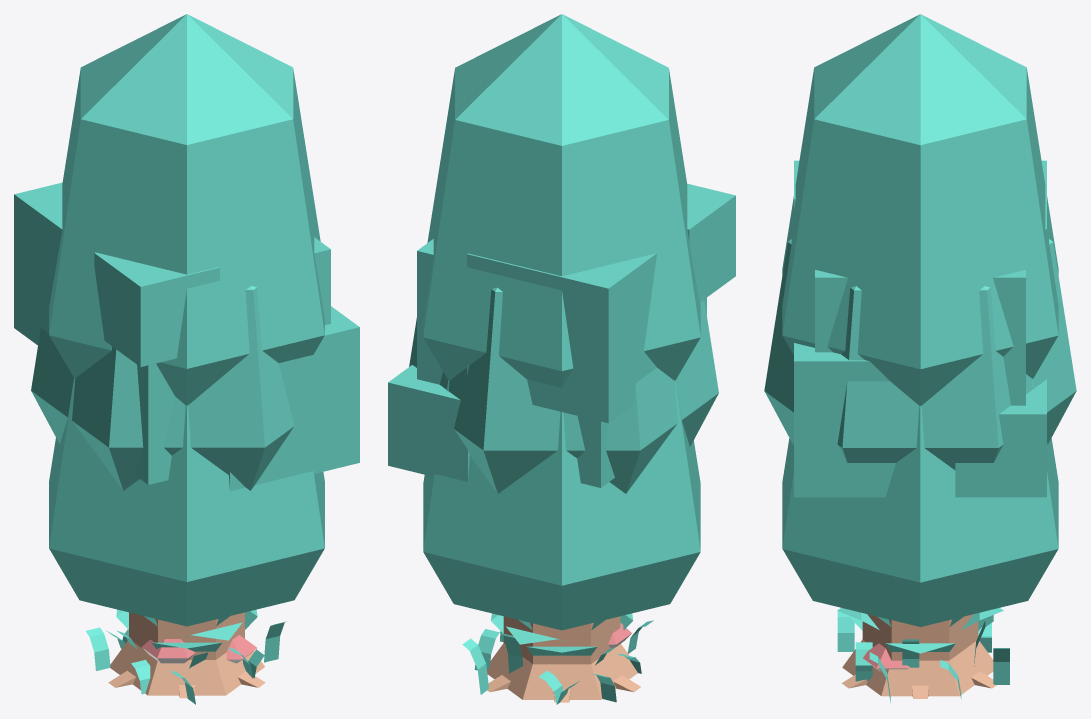
Rendered from nature.glb.
3 renders of one model, left to right at view 1: azimuth 30°, elevation 25°; view 2: azimuth 150°, elevation 25°; view 3: azimuth 270°, elevation 25°, orthographic.
Visible parts, largest first — view 1: tree_default, tree_fat, tree_blocks, tree_oak, stump_round, grass_large, mushroom_redGroup, plant_bushLarge; view 2: tree_default, tree_fat, tree_blocks, tree_oak, stump_round, grass_large, plant_bushLarge; view 3: tree_default, tree_fat, tree_oak, tree_blocks, stump_round, grass_large, plant_bushLarge, mushroom_redGroup, plant_bush.
Boxes of the visible parts, x1,y1,x2,y2 form: tree_default: (49, 14, 324, 405); tree_fat: (49, 378, 324, 626); tree_blocks: (14, 182, 359, 491); tree_oak: (31, 286, 294, 698); stump_round: (110, 612, 264, 695); grass_large: (85, 621, 286, 704); mushroom_redGroup: (142, 635, 256, 663); plant_bushLarge: (116, 609, 257, 651); tree_default: (423, 14, 700, 387); tree_fat: (423, 380, 700, 630); tree_blocks: (388, 183, 735, 487); tree_oak: (409, 287, 718, 702); stump_round: (487, 616, 637, 699); grass_large: (462, 620, 653, 704); plant_bushLarge: (491, 613, 633, 655); tree_default: (782, 14, 1058, 405); tree_fat: (782, 378, 1058, 626); tree_oak: (764, 239, 1076, 698); tree_blocks: (794, 160, 1046, 497); stump_round: (842, 614, 993, 696); grass_large: (837, 611, 1009, 702); plant_bushLarge: (849, 616, 990, 653); mushroom_redGroup: (863, 643, 909, 671); plant_bush: (837, 608, 1003, 629).
Size of the model in its own units: 0.755 by 1.71 by 0.7397.
